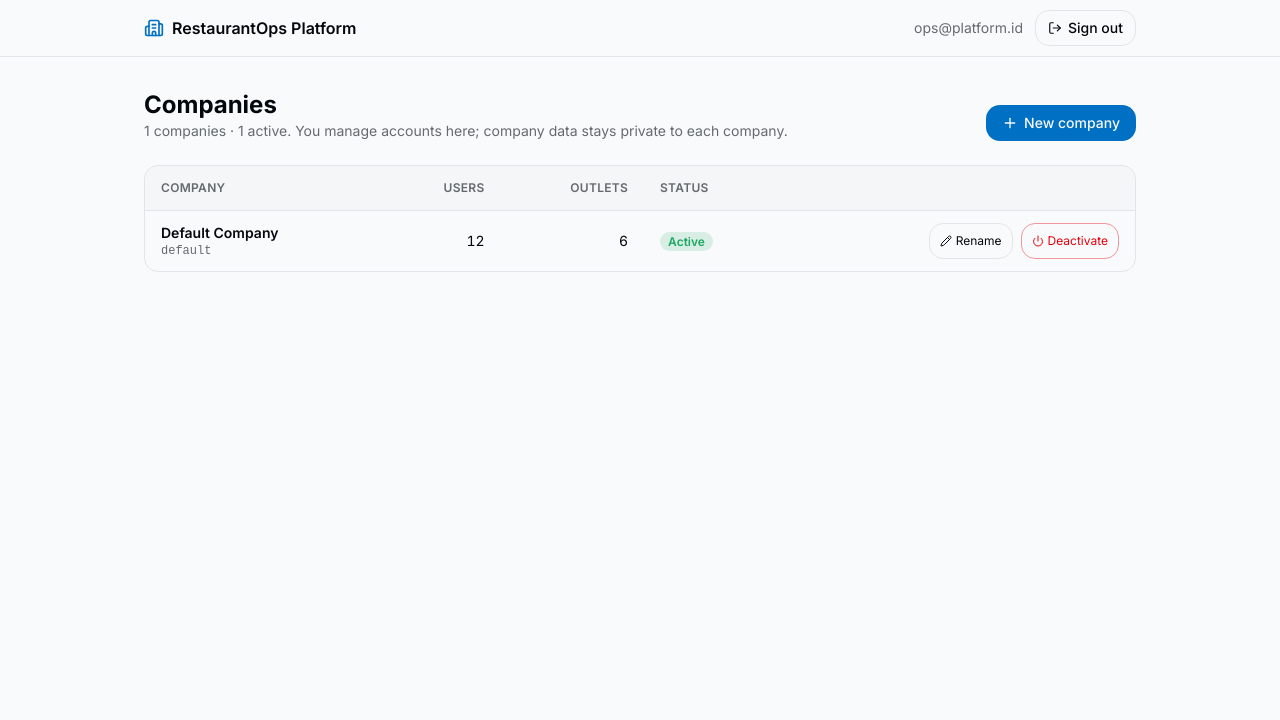
Scenario: PlatformPage › deactivating asks for confirmation first
This screenshot has width=1280, height=720.
Expected: the row "Default Company default 12 6 Active Rename Deactivate" is shown, [145,210,1135,271]
Click the button "Deactivate" at (1070, 241), box [1021,223,1119,259]
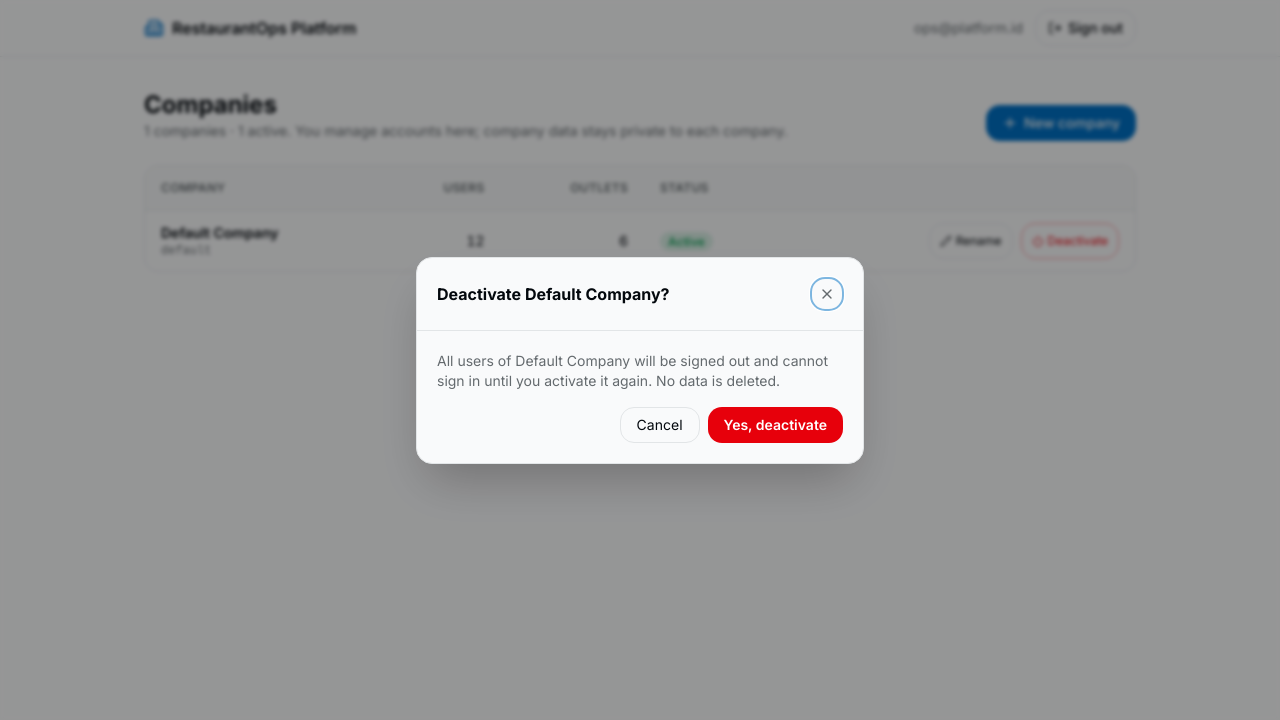
Now the text "users of Default Company will be signed out" is shown, box [437,352,828,388]
Click the button "Yes, deactivate" at (775, 424), box [708,406,843,442]
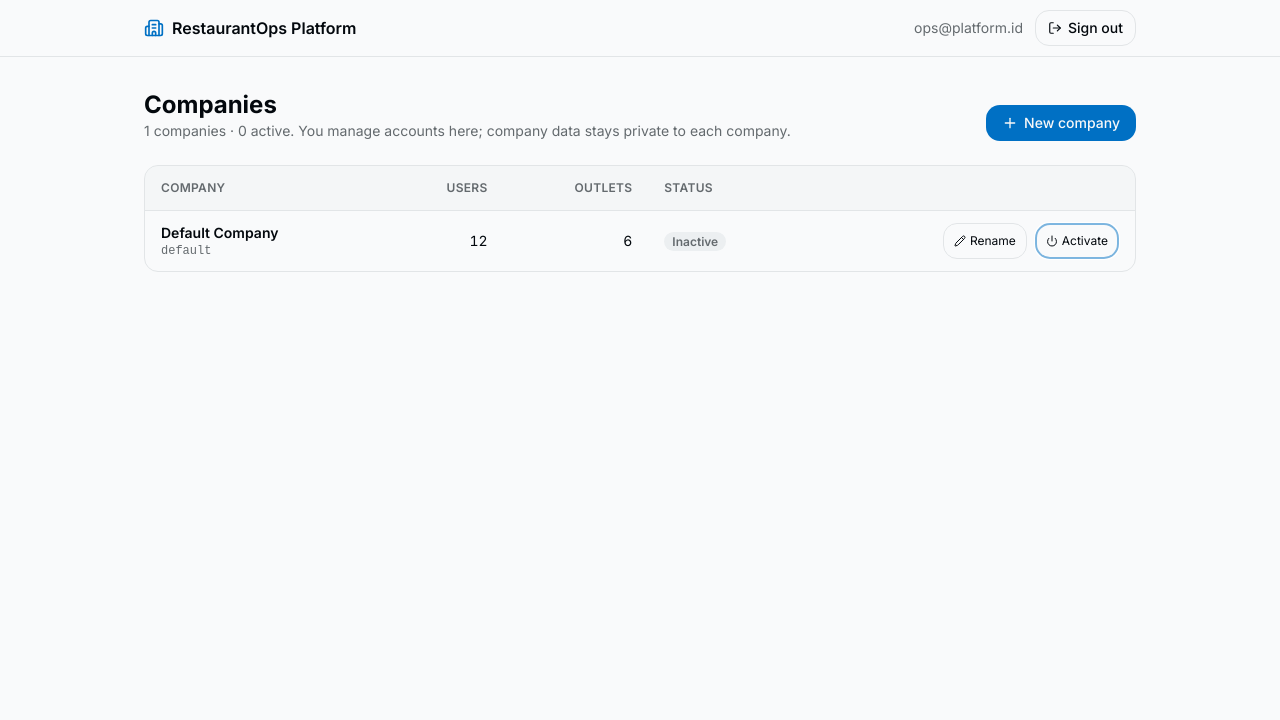
Now the text "Inactive" is shown, box [664,232,726,251]
